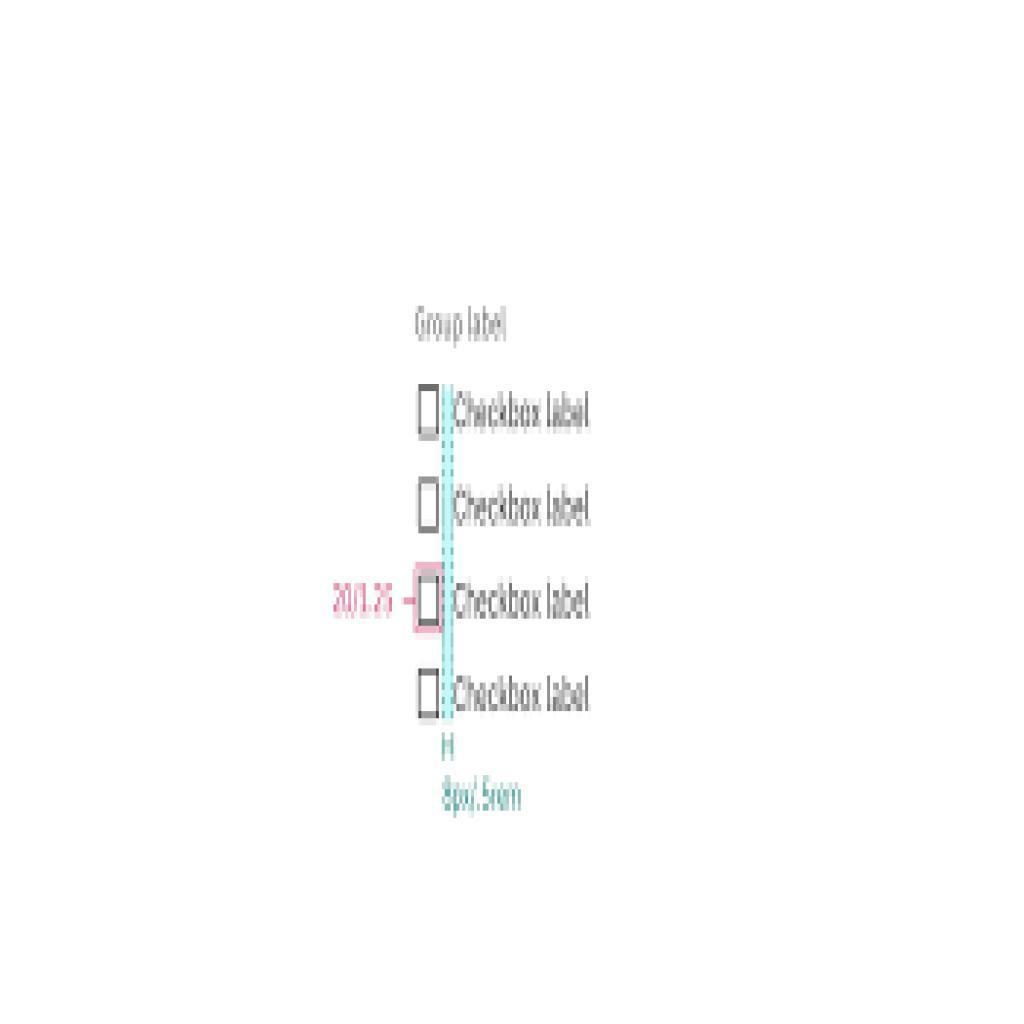checkbox: (418, 476, 440, 533), (418, 574, 441, 624), (420, 387, 441, 441), (419, 668, 440, 720)
label: (455, 667, 596, 717), (449, 483, 594, 530), (455, 578, 591, 624), (454, 388, 593, 433)
